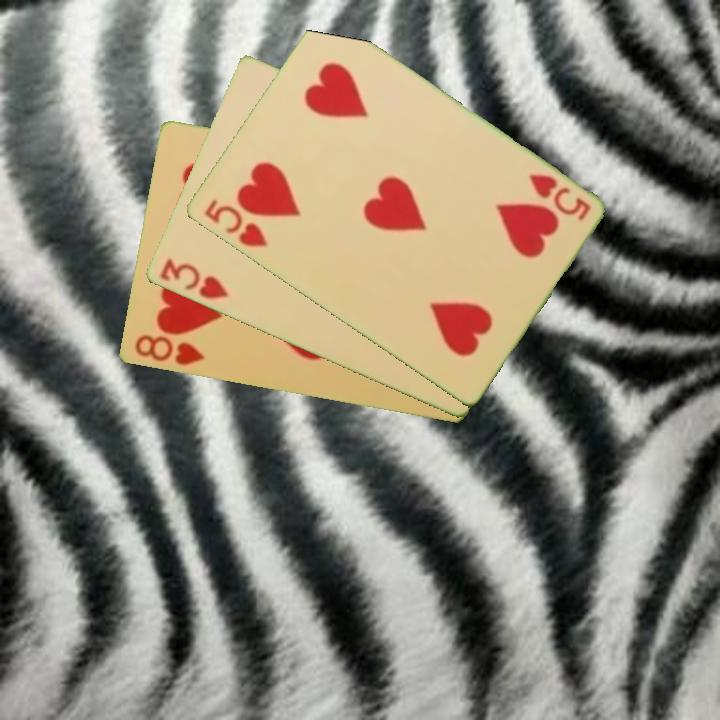3h: (156, 254, 231, 303)
5h: (199, 196, 270, 251), (524, 170, 593, 224)
8h: (131, 331, 207, 369)
